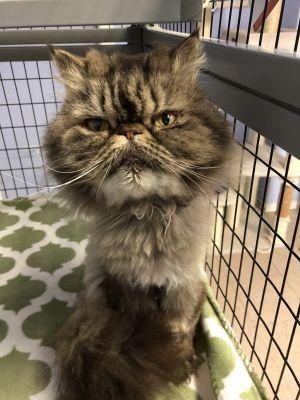persian: (40, 32, 232, 217)
